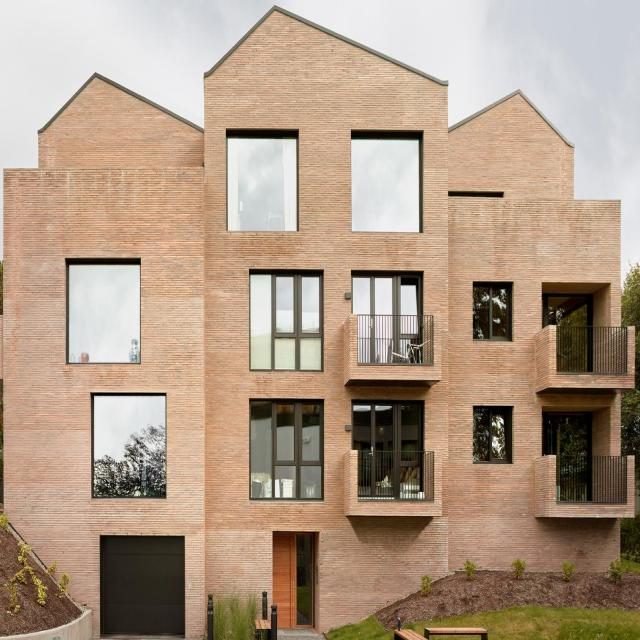Railing: (359, 451, 436, 501), (358, 315, 435, 365), (559, 327, 629, 378), (557, 460, 630, 507)
door: (102, 538, 187, 638), (274, 537, 315, 633)
wall: (3, 6, 636, 635)
windows: (94, 398, 167, 500), (71, 266, 142, 362), (252, 276, 323, 371), (252, 406, 323, 500), (353, 136, 422, 232), (229, 138, 299, 230), (544, 412, 594, 502), (545, 293, 589, 374), (354, 405, 420, 452), (353, 276, 420, 316), (474, 408, 512, 462), (474, 286, 510, 340)
